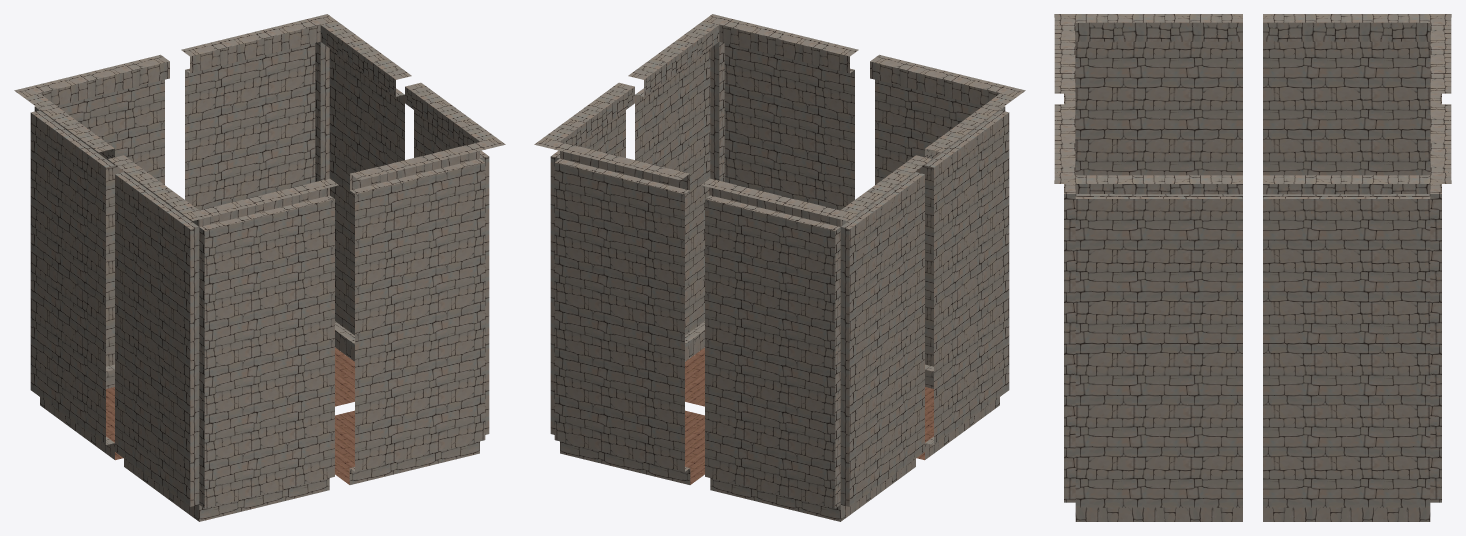
The model's file is Coner fix.fbx.
The picture shows the model from 3 angles, left to right: view 1: azimuth 30°, elevation 25°; view 2: azimuth 150°, elevation 25°; view 3: azimuth 270°, elevation 25°; orthographic projection. The views are drawn at different scales.
Visible parts, largest first — view 1: tile 035, tile 036, tile 034, tile 033; view 2: tile 033, tile 034, tile 036, tile 035; view 3: tile 034, tile 036, tile 033, tile 035.
Part boxes in pixels (x1,y1,x2,y2): tile 035: (108, 155, 338, 521); tile 036: (335, 82, 505, 484); tile 034: (181, 14, 411, 406); tile 033: (14, 54, 169, 460); tile 033: (701, 155, 931, 521); tile 034: (534, 82, 704, 484); tile 036: (628, 14, 858, 406); tile 035: (870, 54, 1025, 460); tile 034: (1263, 104, 1451, 521); tile 036: (1054, 104, 1242, 521); tile 033: (1263, 14, 1451, 175); tile 035: (1054, 14, 1242, 175).
Size of the model in its own units: 189 by 187 by 180.
